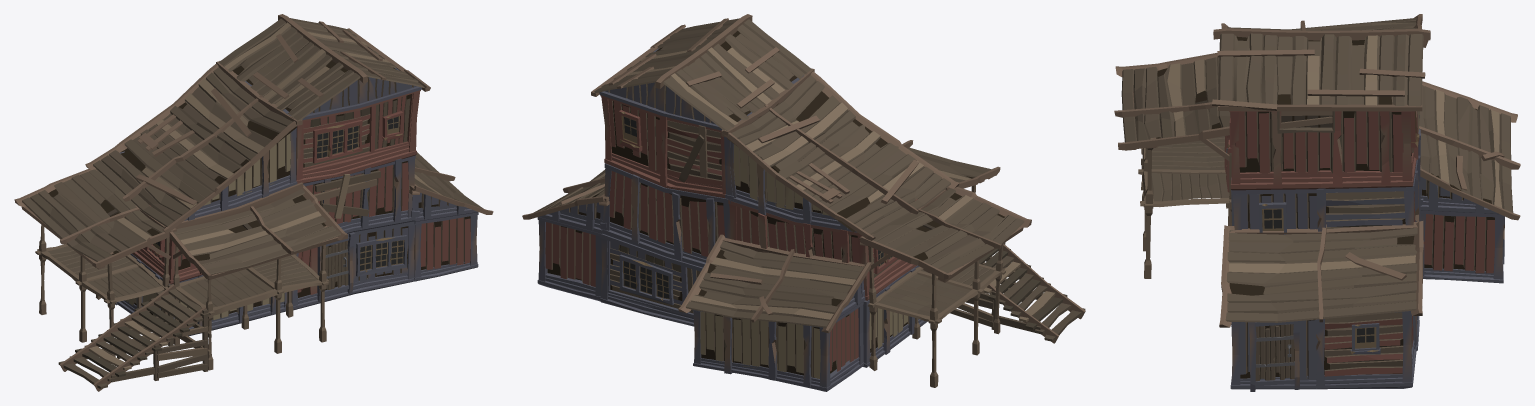
Rendered from SM_Bld_Shanty_Preset_03.glb.
3 renders of one model, left to right at view 1: azimuth 30°, elevation 25°; view 2: azimuth 150°, elevation 25°; view 3: azimuth 270°, elevation 25°, orthographic. The views are drawn at different scales.
Parts seen in each view (by area): view 1: SM_Bld_Shanty_Preset_03; view 2: SM_Bld_Shanty_Preset_03; view 3: SM_Bld_Shanty_Preset_03.
Part boxes in pixels (x1=…): SM_Bld_Shanty_Preset_03: x1=14, y1=14, x2=493, y2=391; SM_Bld_Shanty_Preset_03: x1=522, y1=14, x2=1085, y2=391; SM_Bld_Shanty_Preset_03: x1=1114, y1=14, x2=1520, y2=391.
Bounding box in the file's own units: 0.1721 × 0.0894 × 0.1114.
